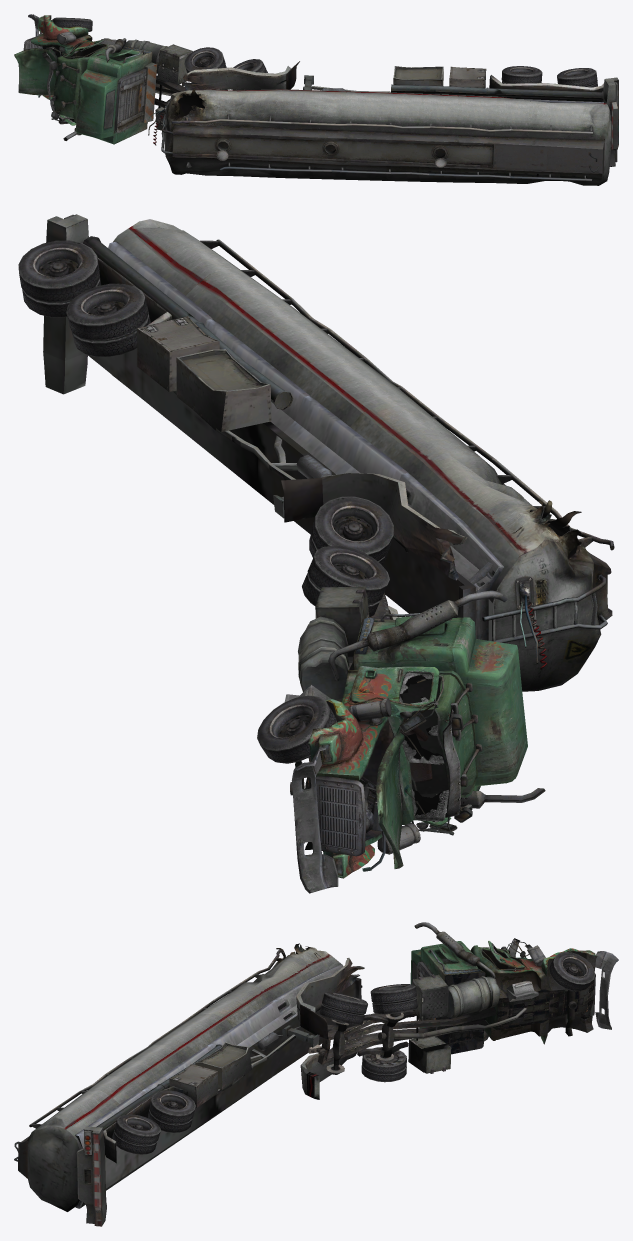
The model's file is TankerTruck.obj.
3 renders of one model, top to bottom at view 1: azimuth 30°, elevation 25°; view 2: azimuth 150°, elevation 25°; view 3: azimuth 270°, elevation 25°, orthographic. The views are drawn at different scales.
Size of the model in its own units: 16.48 by 3.74 by 19.08.
Materials: 5 (5 with a texture image).
